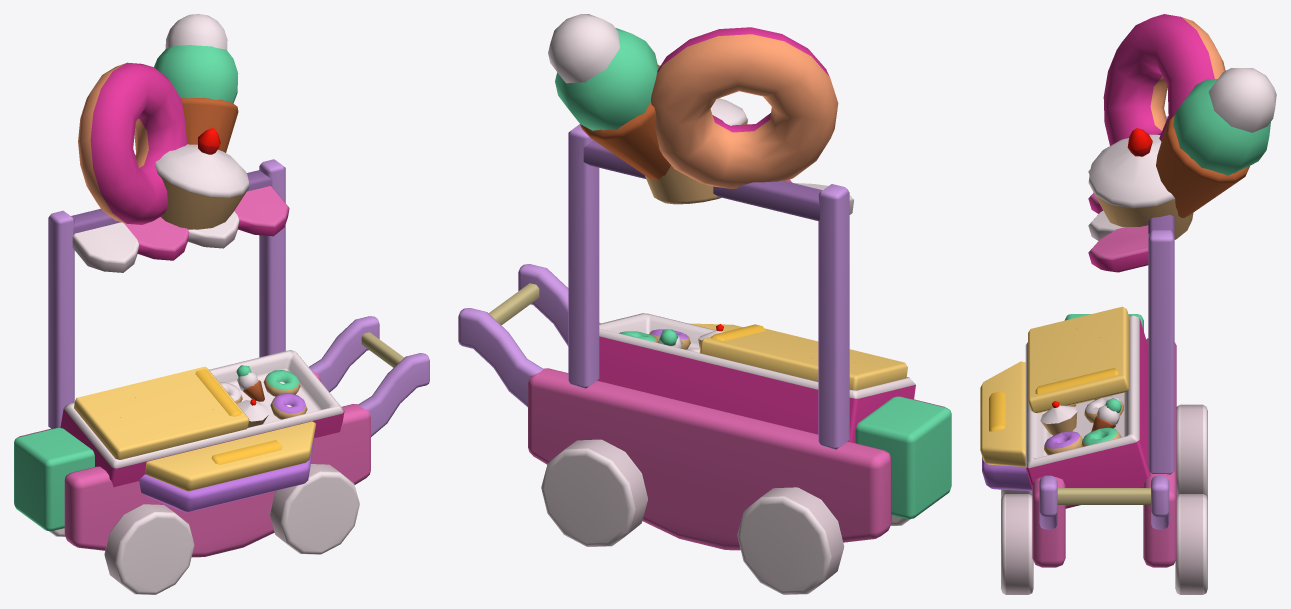
File: Final_food.fbx
3 views of the same model, side by side, from view 1: azimuth 30°, elevation 25°; view 2: azimuth 150°, elevation 25°; view 3: azimuth 270°, elevation 25° (orthographic). The views are drawn at different scales.
Parts seen in each view (by area): view 1: food, food_02_cap, food_02_ice_top, food_03_maffin_top, food_03_cap; view 2: food, food_02_ice_top, food_02_cap, food_03_maffin_top; view 3: food, food_02_ice_top, food_02_cap, food_03_maffin_top, food_03_cap.
Boxes of the visible parts, x1=… form: food: x1=14, y1=62, x2=429, y2=594; food_02_cap: x1=74, y1=366, x2=249, y2=459; food_02_ice_top: x1=154, y1=14, x2=238, y2=152; food_03_maffin_top: x1=155, y1=127, x2=249, y2=229; food_03_cap: x1=145, y1=421, x2=315, y2=491; food: x1=458, y1=27, x2=951, y2=594; food_02_ice_top: x1=548, y1=14, x2=670, y2=180; food_02_cap: x1=699, y1=324, x2=907, y2=390; food_03_maffin_top: x1=645, y1=98, x2=747, y2=204; food: x1=982, y1=14, x2=1225, y2=594; food_02_ice_top: x1=1156, y1=68, x2=1276, y2=217; food_02_cap: x1=1028, y1=306, x2=1129, y2=413; food_03_maffin_top: x1=1088, y1=128, x2=1193, y2=239; food_03_cap: x1=980, y1=361, x2=1025, y2=466.
Bounding box in the file's own units: 219 × 260 × 136.
